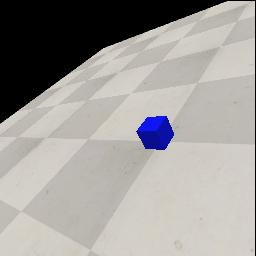box: (136, 116, 174, 150)
